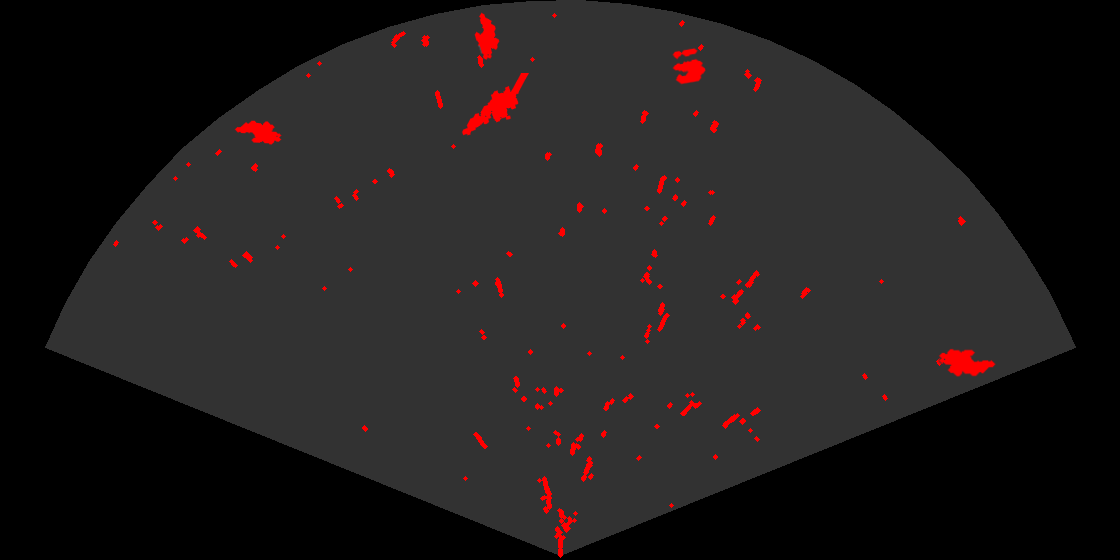AUV: (937, 347, 997, 378), (473, 11, 501, 61), (233, 119, 283, 146)
ball: (671, 46, 707, 86)
frogman: (460, 73, 529, 137)
